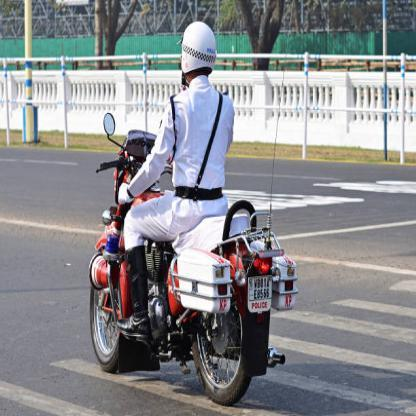Motorcycle: (78, 136, 296, 403)
